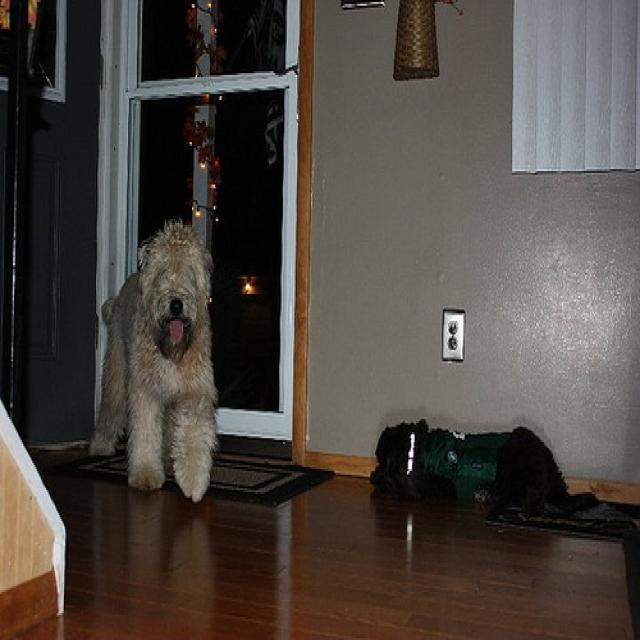dog-wheaten_terrier: (81, 215, 221, 513)
